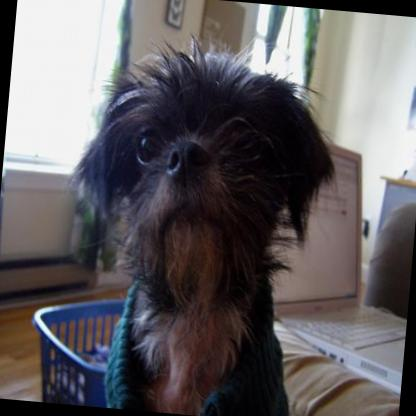affenpinscher: (42, 14, 361, 416)
